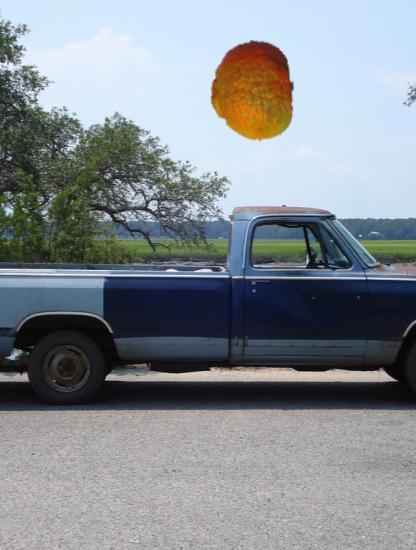Mandarine: (201, 40, 304, 143)
